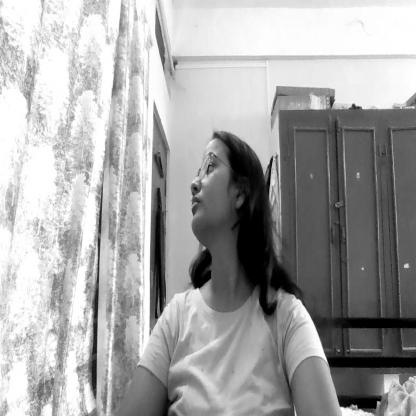Distracted: (188, 144, 254, 255)
